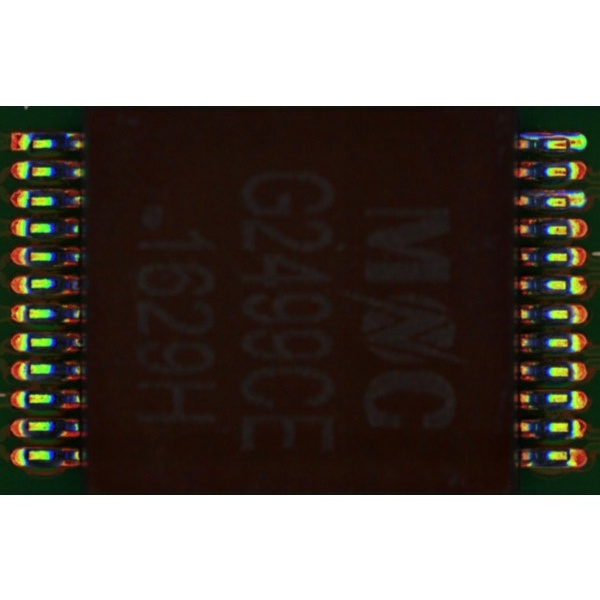Bad_podu: (561, 139, 578, 147)
Bad_qiaojiao: (520, 132, 570, 139)
